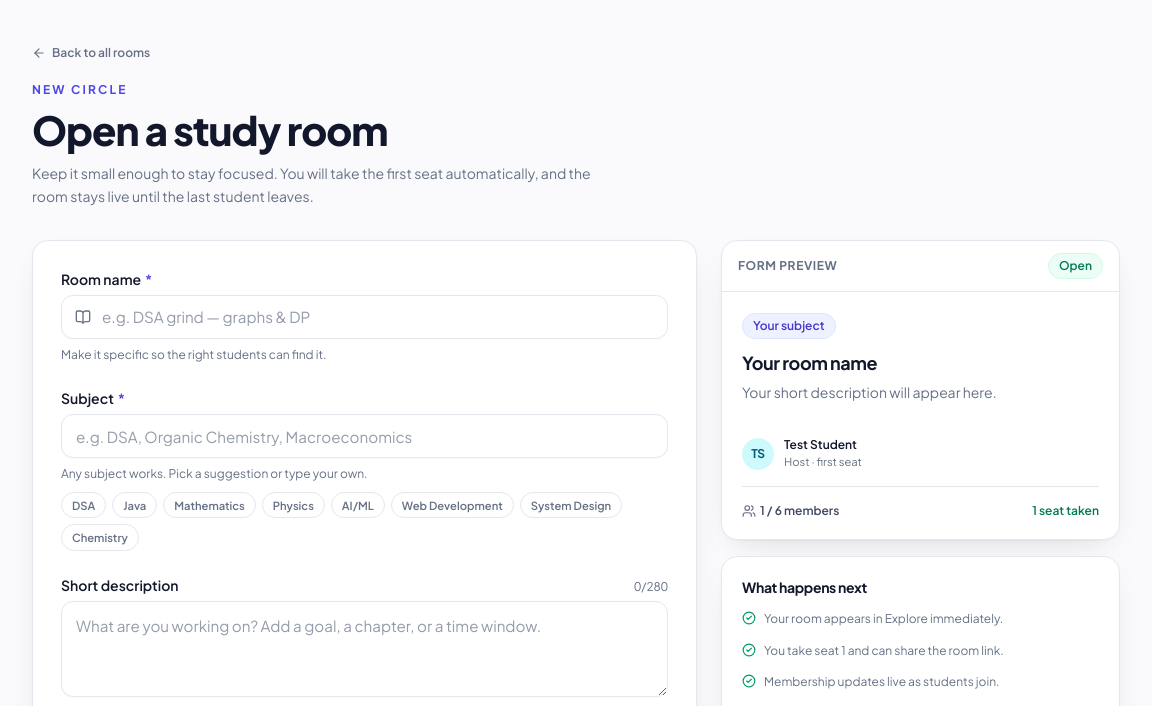
Test: CreateRoomPage › blocks submission when capacity is below the minimum
The image size is (1152, 706).
Type "Graphs and DP" into the field labelled "Room name *" at (364, 316), box [61,294,668,338]
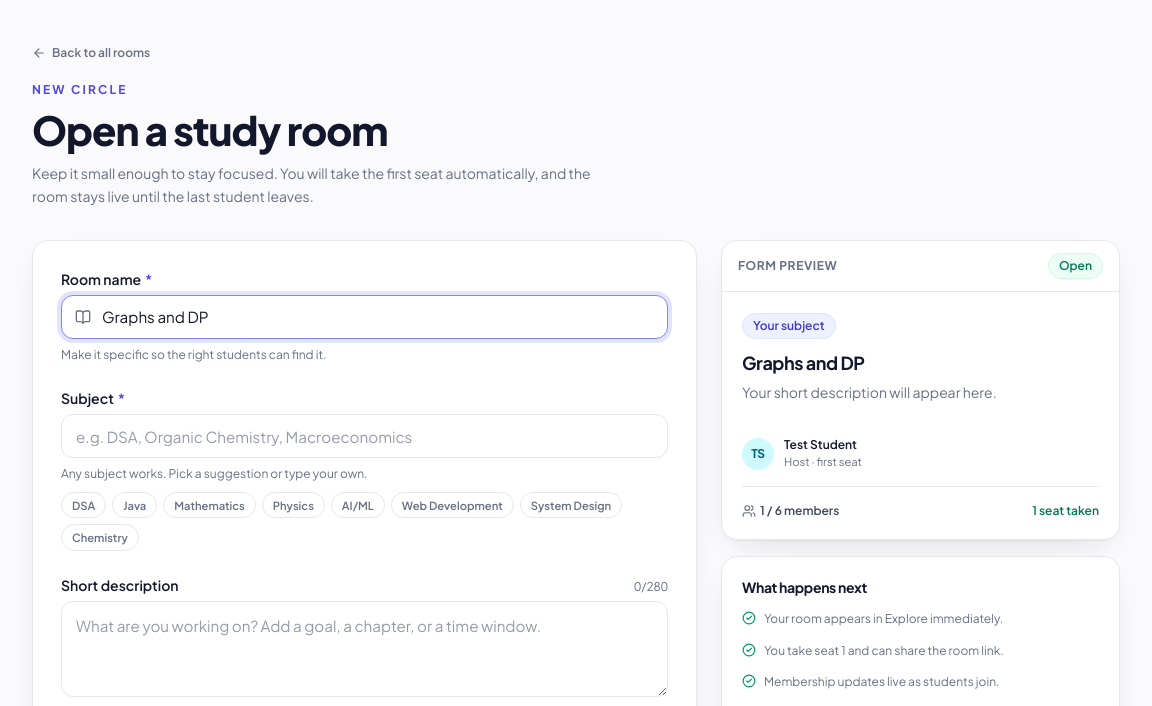
Type "DSA" into the field labelled "Subject *" at (364, 436), box [61,414,668,458]
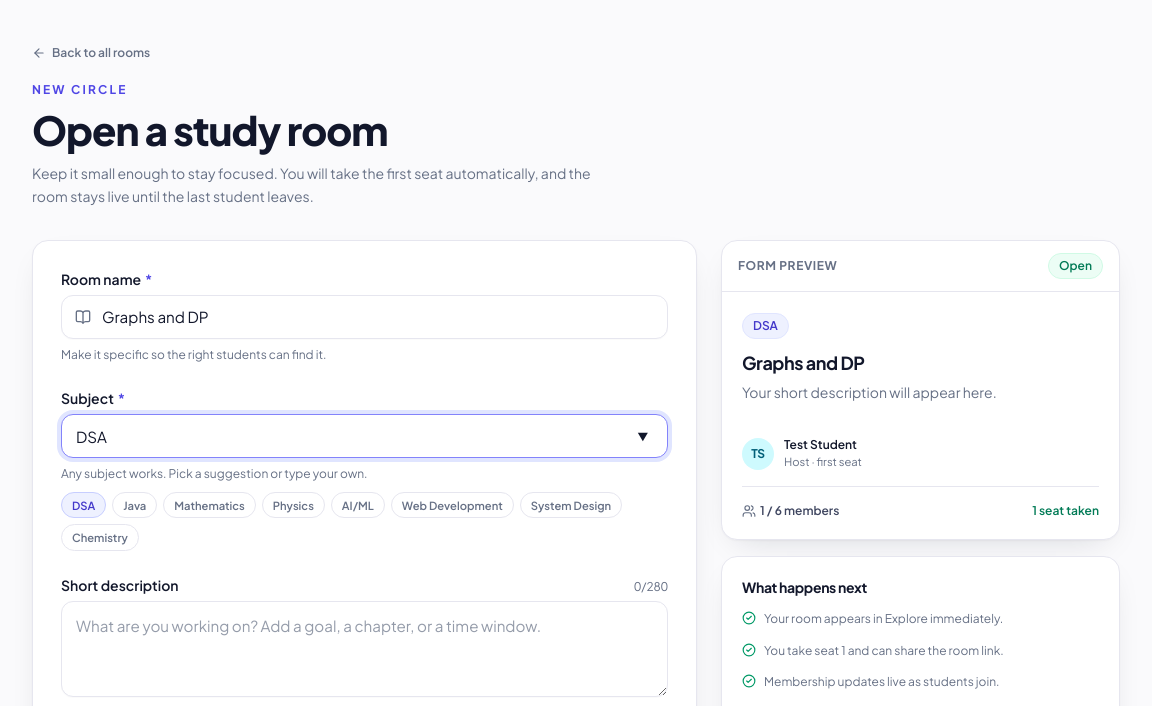
Type "Working through graph traversal problems." into the text box labelled "Short description" at (364, 649), box [61,601,668,697]
(page scrolled)
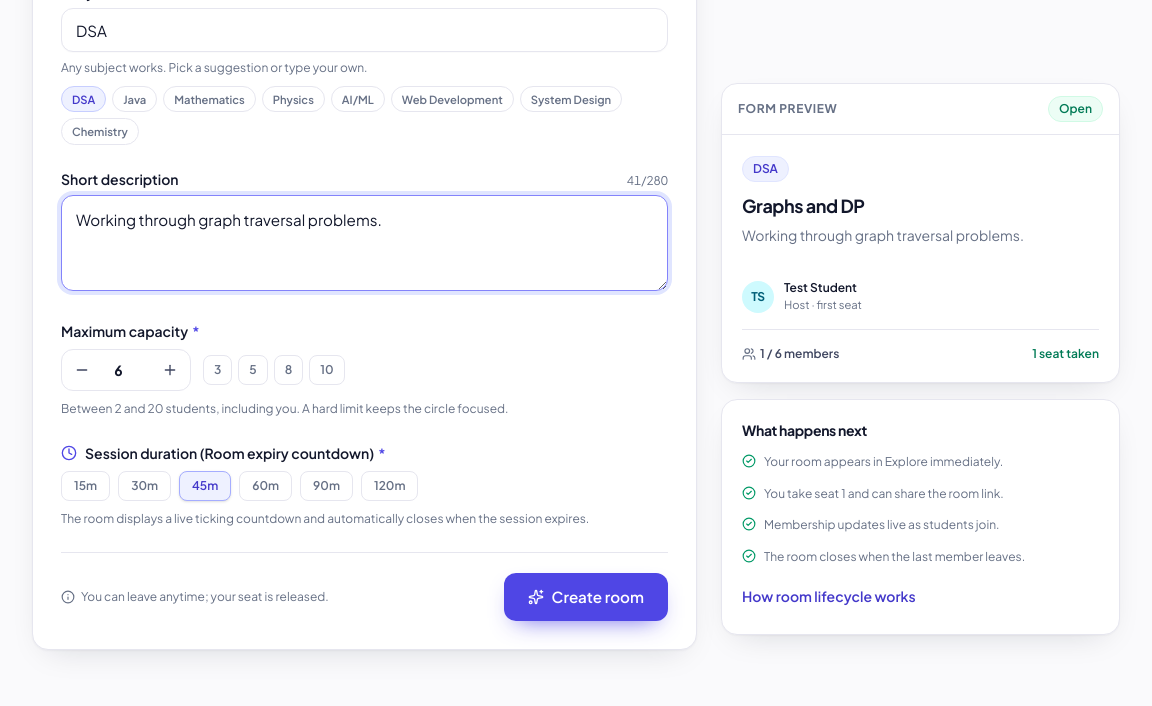
Replace the text in the number field named "Maximum capacity" with "1" at (126, 370), box [102,354,150,386]
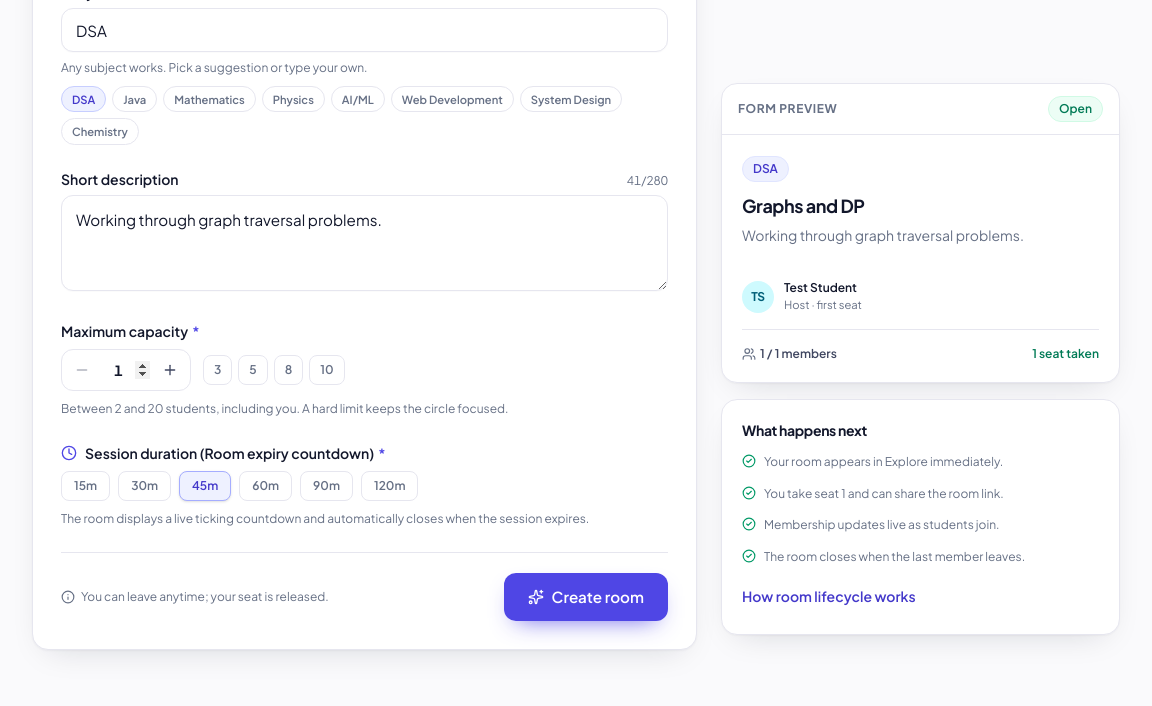
Click the button "Create room" at (586, 597), box [504,573,668,621]
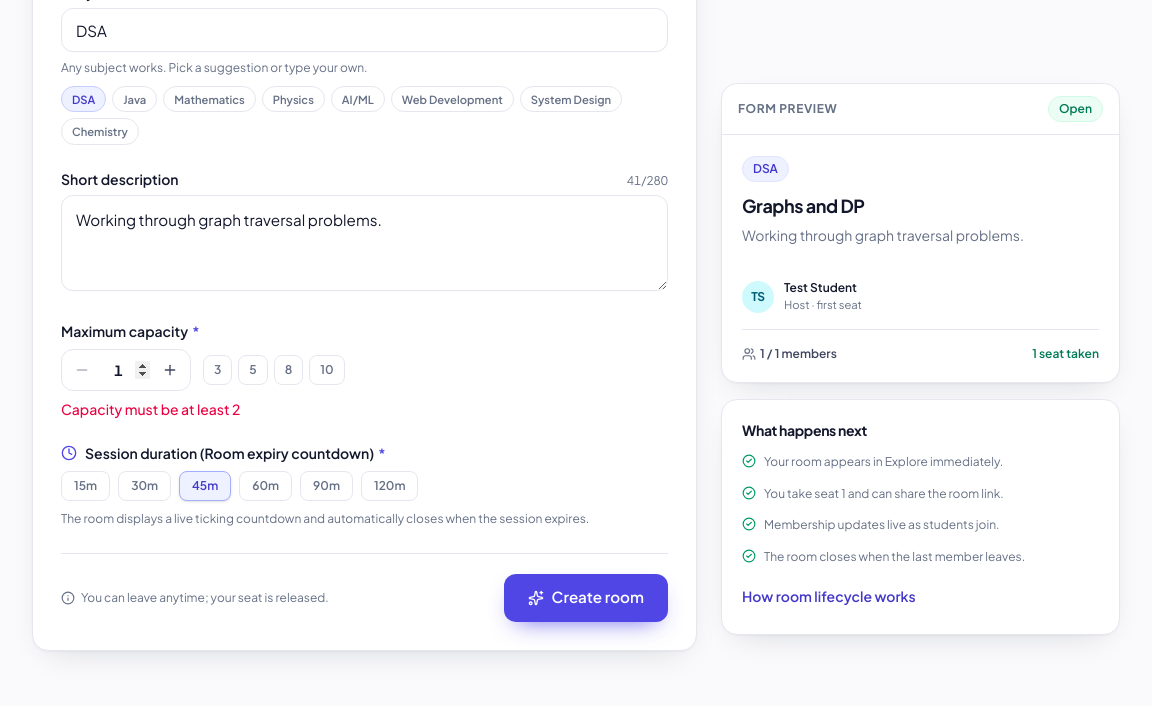
Now the text "Capacity must be at least 2" is shown, box [61,400,240,418]
